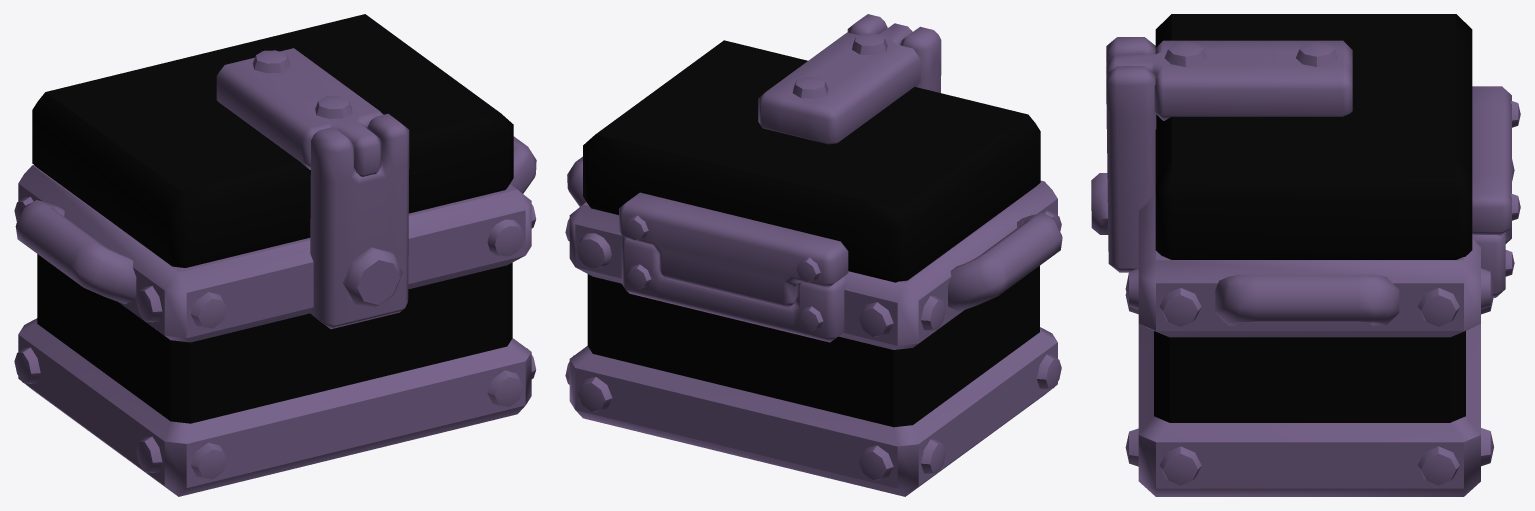
The model's file is chest_01.fbx.
The picture shows the model from 3 angles, left to right: view 1: azimuth 30°, elevation 25°; view 2: azimuth 150°, elevation 25°; view 3: azimuth 270°, elevation 25°; orthographic projection. The views are drawn at different scales.
Visible parts, largest first — view 1: shest_Level_01_body, shest_Level_01_cap; view 2: shest_Level_01_body, shest_Level_01_cap; view 3: shest_Level_01_cap, shest_Level_01_body.
Part boxes in pixels (x1=…): shest_Level_01_body: x1=14, y1=136, x2=536, y2=496; shest_Level_01_cap: x1=32, y1=14, x2=513, y2=329; shest_Level_01_body: x1=565, y1=156, x2=1062, y2=496; shest_Level_01_cap: x1=583, y1=14, x2=1040, y2=308; shest_Level_01_cap: x1=1091, y1=14, x2=1520, y2=272; shest_Level_01_body: x1=1125, y1=159, x2=1514, y2=496.
Bounding box in the file's own units: 163 × 117 × 126.
